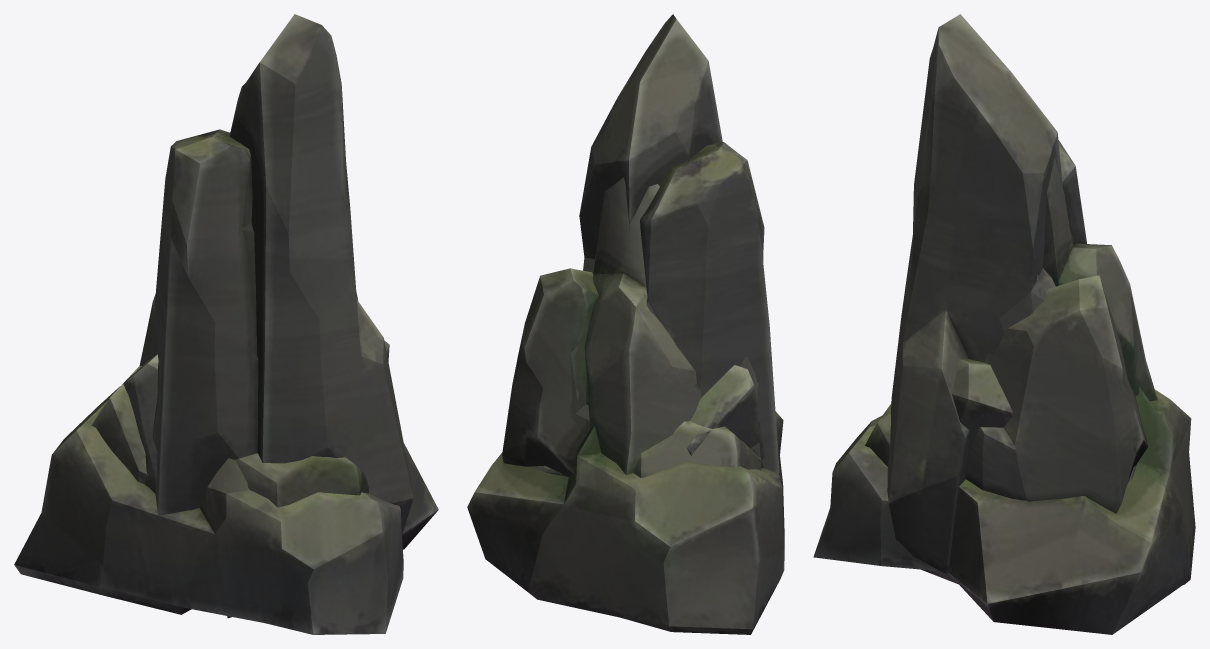
The model's file is rock-pack.glb.
3 renders of one model, left to right at view 1: azimuth 30°, elevation 25°; view 2: azimuth 150°, elevation 25°; view 3: azimuth 270°, elevation 25°, orthographic. The views are drawn at different scales.
Visible parts, largest first — view 1: Rock_4, Rock_5, Rock_2, Rock_3; view 2: Rock_5, Rock_4, Rock_2, Rock_3; view 3: Rock_5, Rock_4, Rock_3, Rock_2.
Boxes of the visible parts, box(x1,y1,x2,y2) form: Rock_4: box(150, 14, 413, 618); Rock_5: box(14, 292, 438, 634); Rock_2: box(91, 366, 368, 507); Rock_3: box(123, 340, 389, 483); Rock_5: box(467, 177, 784, 634); Rock_4: box(579, 14, 779, 473); Rock_2: box(527, 421, 761, 477); Rock_3: box(585, 255, 764, 460); Rock_5: box(813, 157, 1195, 634); Rock_4: box(887, 14, 1086, 573); Rock_3: box(924, 274, 1038, 574); Rock_2: box(865, 403, 1137, 487).
Size of the model in its own units: 1.29 by 2.15 by 1.32.
1 material, 1 textured.
